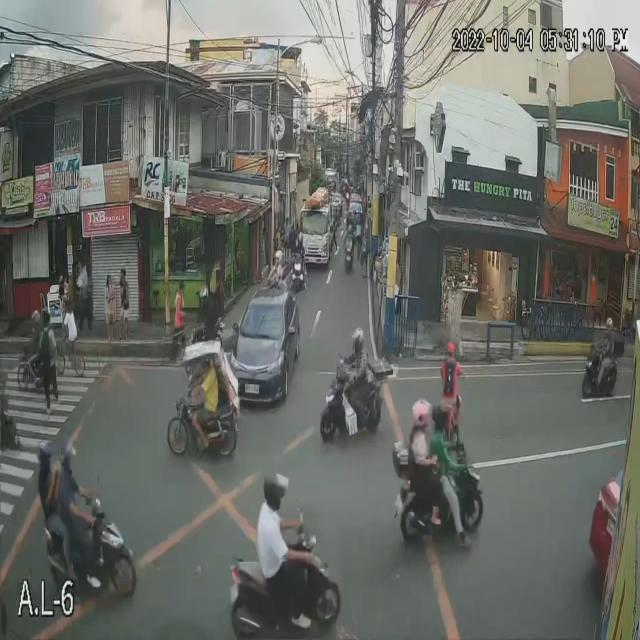Full-Faced: (257, 471, 289, 508), (53, 435, 77, 475), (409, 399, 432, 431), (349, 323, 368, 357), (34, 436, 52, 467), (435, 400, 450, 432), (293, 226, 308, 249), (602, 316, 615, 334), (274, 251, 283, 269), (346, 222, 354, 238)
Not-Wearing-Helmet: (447, 338, 458, 361)
